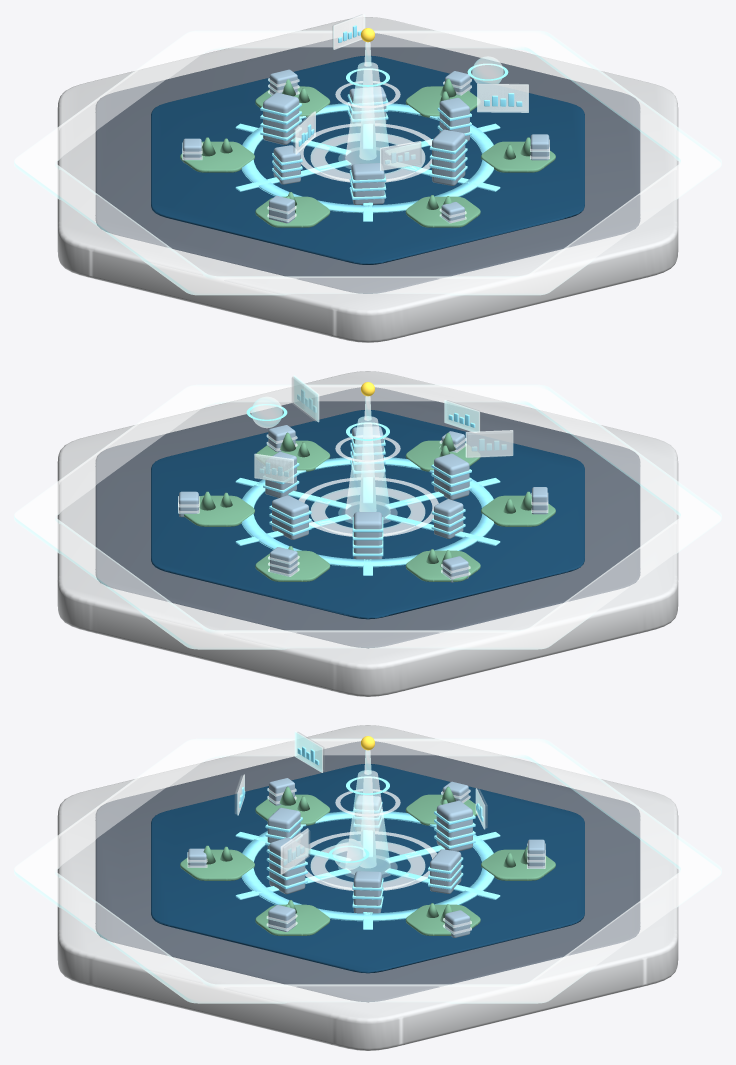
The model's file is holo-city.glb.
3 renders of one model, top to bottom at view 1: azimuth 30°, elevation 25°; view 2: azimuth 150°, elevation 25°; view 3: azimuth 270°, elevation 25°, orthographic.
Parts seen in each view (by area): view 1: HoloPodium, HoloGround, HoloDeck, HoloRim, HoloPathRing, HoloSpire, HoloPathInner, HoloBldgA, HoloPark_06, HoloPark_01, HoloPark_04, HoloBldgD (+16 smaller); view 2: HoloPodium, HoloGround, HoloDeck, HoloRim, HoloPathRing, HoloSpire, HoloPathInner, HoloPark_05, HoloPark_02, _HoloPanel_02Frame, HoloPark_04, HoloPark_03 (+22 smaller); view 3: HoloPodium, HoloGround, HoloDeck, HoloRim, HoloPathRing, HoloSpire, HoloPathInner, HoloPark_06, HoloPark_03, HoloBldgD, HoloBldgA, HoloPark_01 (+18 smaller).
Part boxes in pixels (bbox=[...]): HoloPodium: bbox=[57, 17, 678, 342]; HoloGround: bbox=[151, 55, 584, 264]; HoloDeck: bbox=[95, 33, 640, 293]; HoloRim: bbox=[14, 30, 721, 295]; HoloPathRing: bbox=[241, 103, 494, 213]; HoloSpire: bbox=[345, 62, 388, 165]; HoloPathInner: bbox=[310, 133, 425, 180]; HoloBldgA: bbox=[432, 129, 465, 185]; HoloPark_06: bbox=[405, 196, 480, 227]; HoloPark_01: bbox=[481, 141, 555, 172]; HoloPark_04: bbox=[180, 141, 254, 172]; HoloBldgD: bbox=[263, 92, 299, 144]; HoloPodium: bbox=[57, 371, 678, 696]; HoloGround: bbox=[151, 410, 584, 619]; HoloDeck: bbox=[95, 387, 640, 648]; HoloRim: bbox=[14, 384, 721, 649]; HoloPathRing: bbox=[241, 457, 494, 567]; HoloSpire: bbox=[345, 416, 390, 519]; HoloPathInner: bbox=[310, 487, 425, 535]; HoloPark_05: bbox=[481, 495, 555, 526]; HoloPark_02: bbox=[184, 495, 254, 526]; _HoloPanel_02Frame: bbox=[465, 430, 513, 457]; HoloPark_04: bbox=[405, 550, 480, 581]; HoloPark_03: bbox=[255, 550, 330, 581]; HoloPodium: bbox=[57, 725, 678, 1050]; HoloGround: bbox=[151, 764, 584, 973]; HoloDeck: bbox=[95, 741, 640, 1002]; HoloRim: bbox=[14, 738, 721, 1003]; HoloPathRing: bbox=[241, 811, 494, 921]; HoloSpire: bbox=[346, 770, 390, 874]; HoloPathInner: bbox=[310, 841, 425, 889]; HoloPark_06: bbox=[180, 849, 254, 880]; HoloPark_03: bbox=[481, 849, 555, 880]; HoloBldgD: bbox=[436, 800, 472, 851]; HoloBldgA: bbox=[269, 837, 305, 894]; HoloPark_01: bbox=[255, 904, 330, 935].
Bounding box in the file's own units: 0.9792 × 0.258 × 0.9882.
